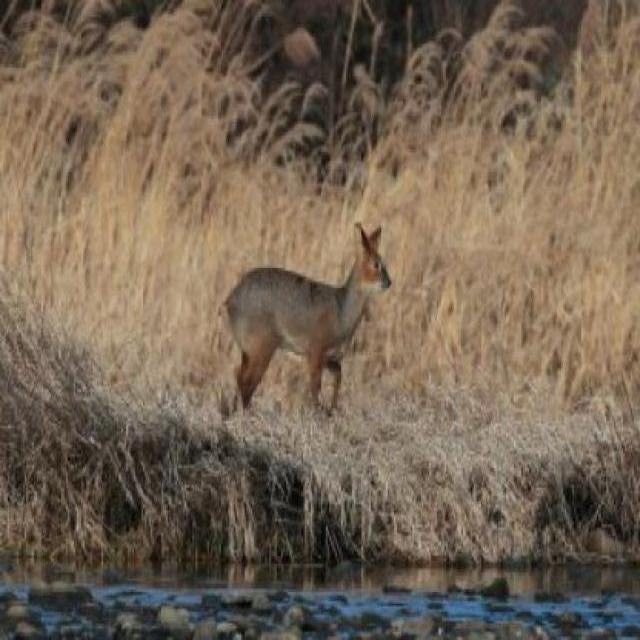deer: (183, 204, 404, 467)
